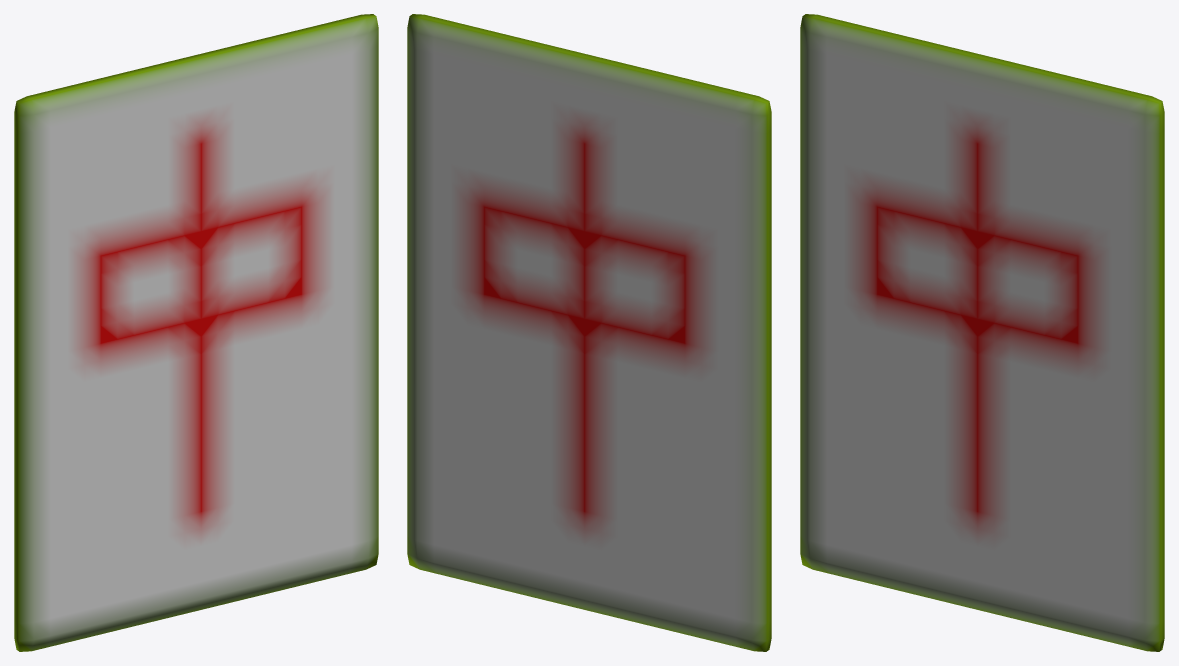
3 views of the same model, side by side, from view 1: azimuth 30°, elevation 25°; view 2: azimuth 150°, elevation 25°; view 3: azimuth 330°, elevation 25° (orthographic).
Size of the model in its own units: 1.08 by 1.57 by 0.05.
